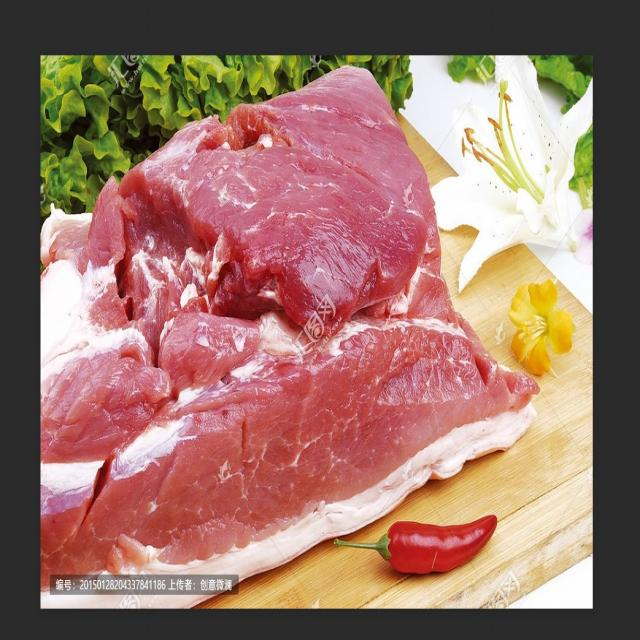pork: (46, 129, 502, 550)
